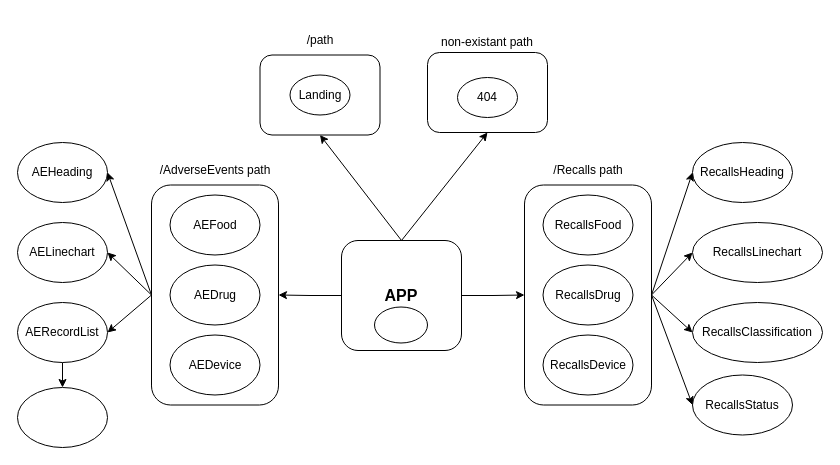
The diagram is 840 pixels wide and 465 high, and some of its shapes have lost their labels. The centre of each missing label's shape, as x and y in pixels:
"AERecords" belongs at point (62, 417).
"Routes" belongs at point (401, 324).
